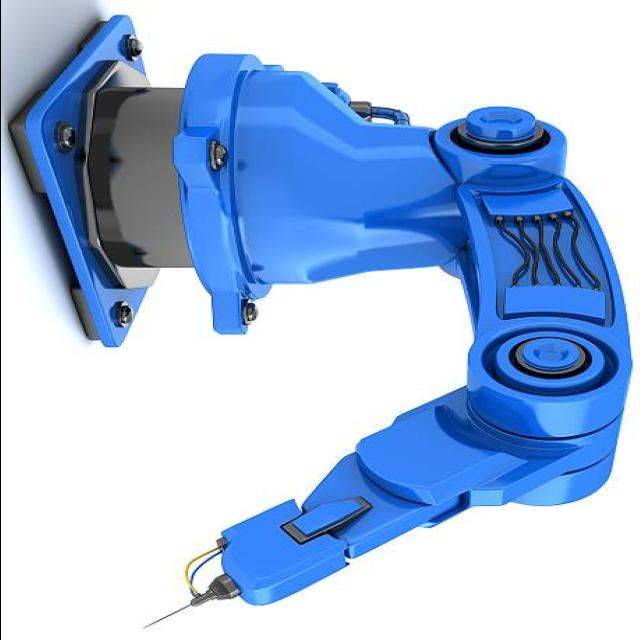Robotic-arm: (71, 47, 640, 640)
